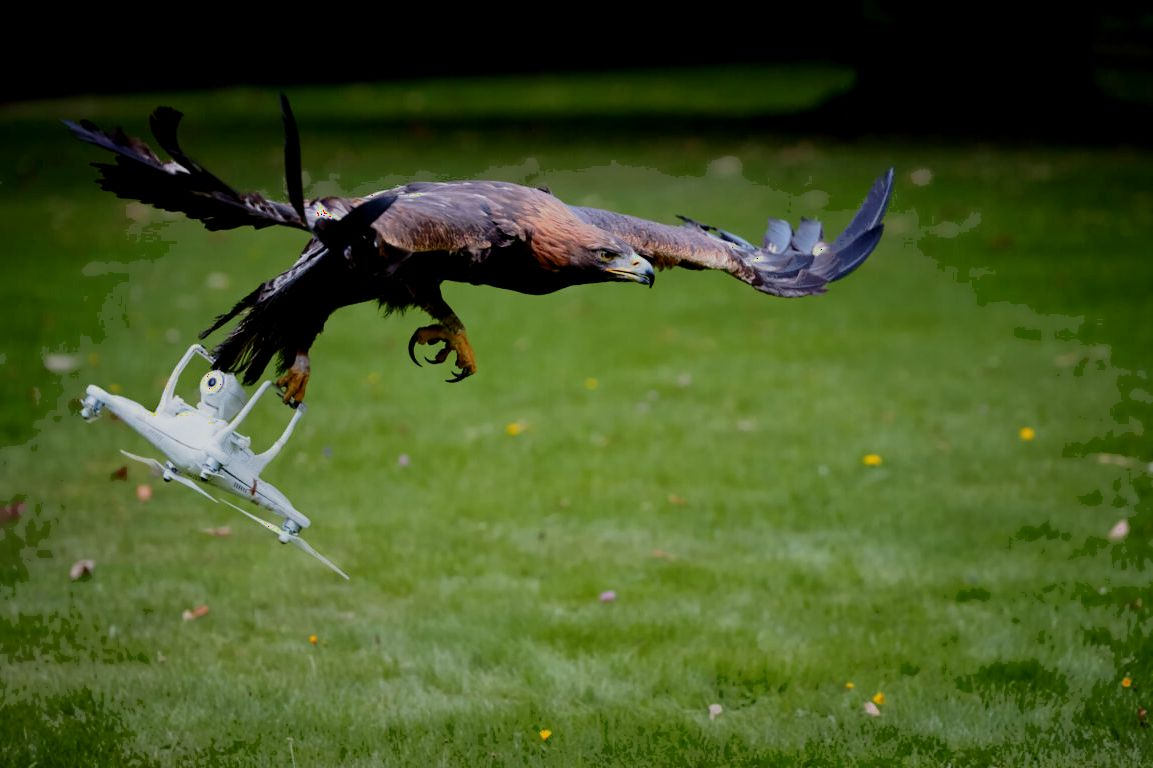Bird: (47, 82, 900, 413)
Drone: (60, 335, 360, 587)
